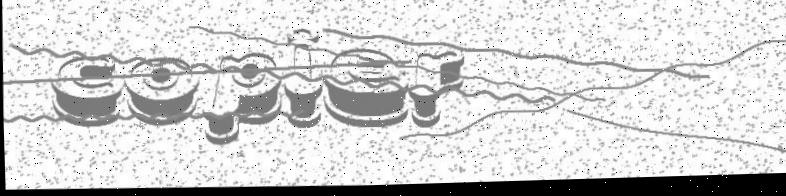c: (52, 51, 123, 133)
e: (316, 37, 411, 142)
i: (278, 16, 328, 141)
o: (117, 52, 205, 131)
p: (200, 40, 287, 154)
r: (406, 46, 476, 138)
